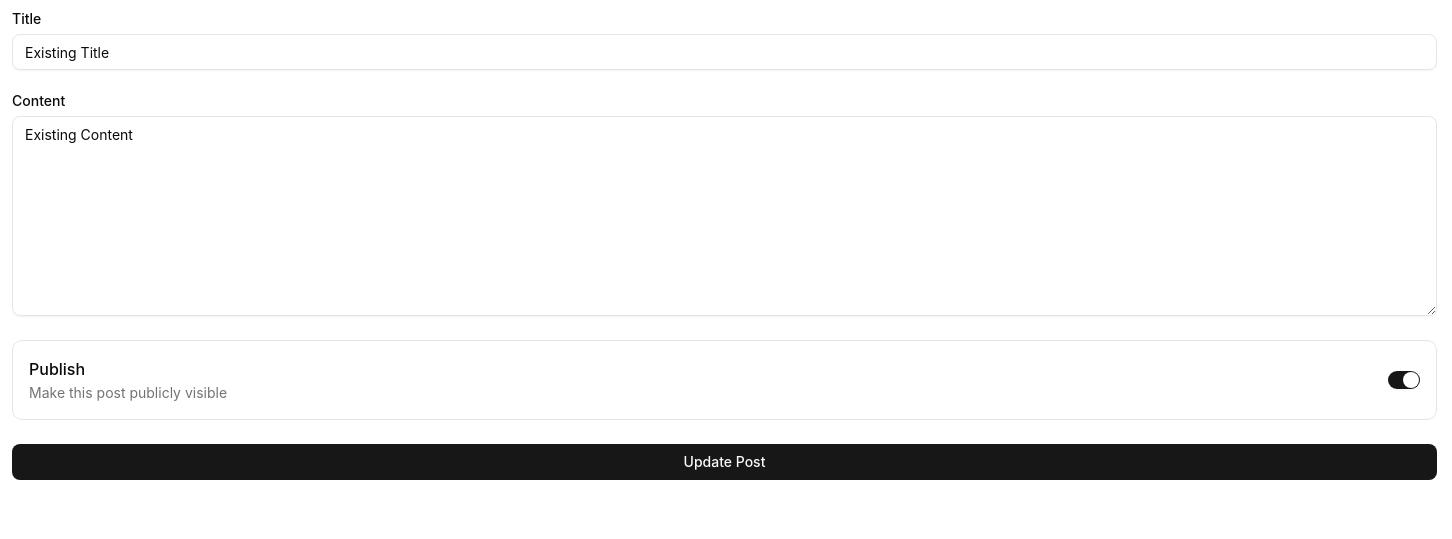
Test: UpdatePostForm › shows error message on mutation failure
Click the button "Update Post" at (724, 462), box [12,444,1437,480]
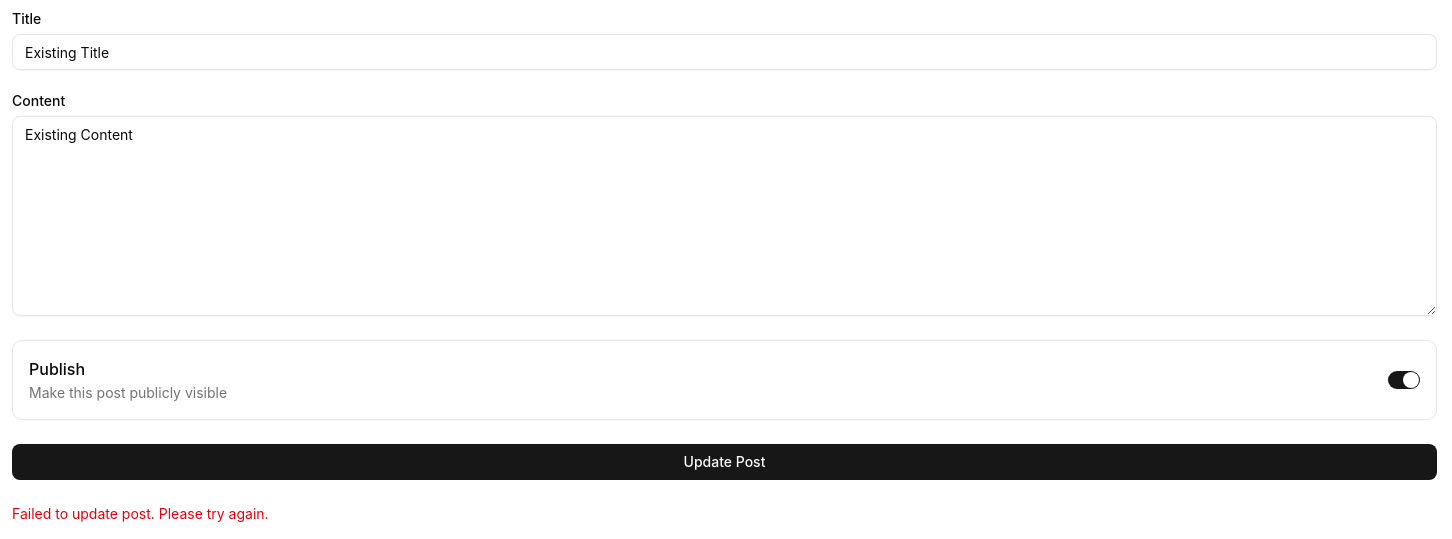
Expected: the text "Failed to update post. Please try again." is shown, [12,505,269,522]
